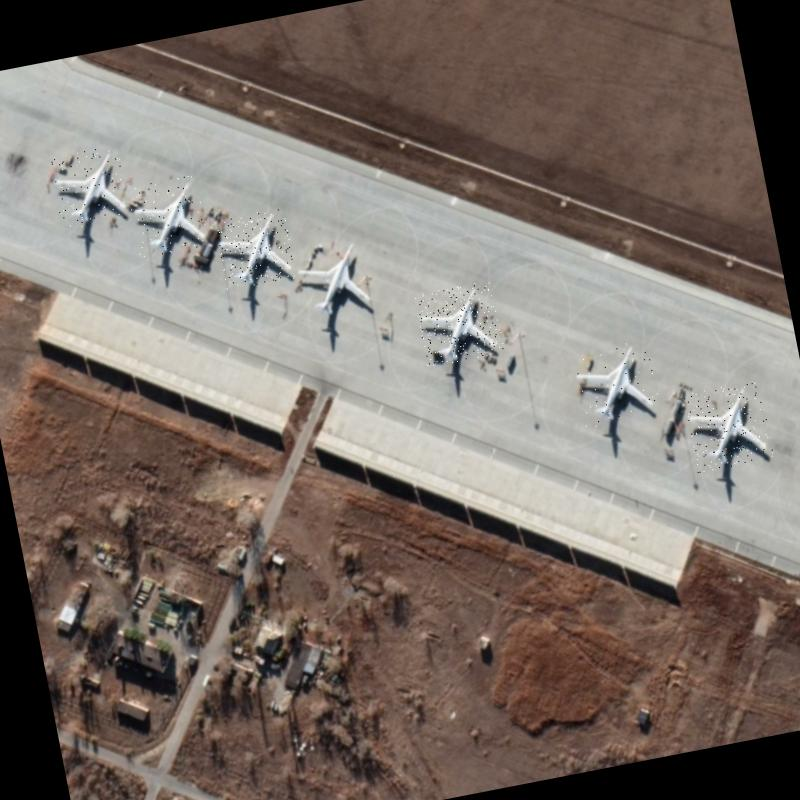A6: (682, 380, 774, 472), (570, 338, 662, 428), (413, 280, 505, 368), (292, 235, 378, 322), (48, 143, 133, 230), (125, 174, 208, 258), (213, 207, 296, 291)
